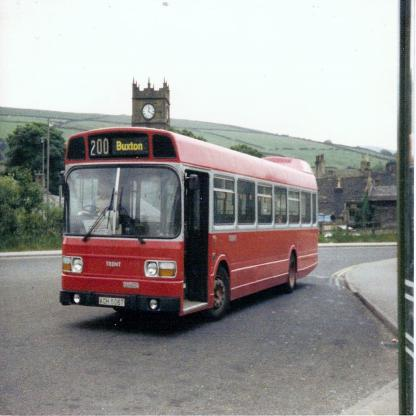Bus: (60, 127, 318, 320)
